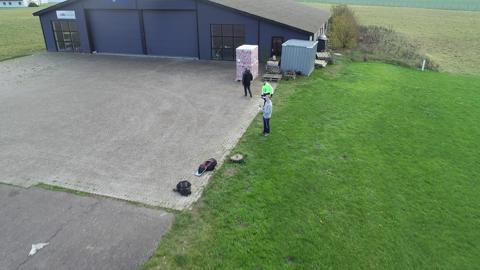RockwoolPallet: (235, 44, 260, 84)
